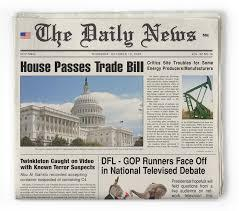Printing industry: (8, 12, 231, 211)
